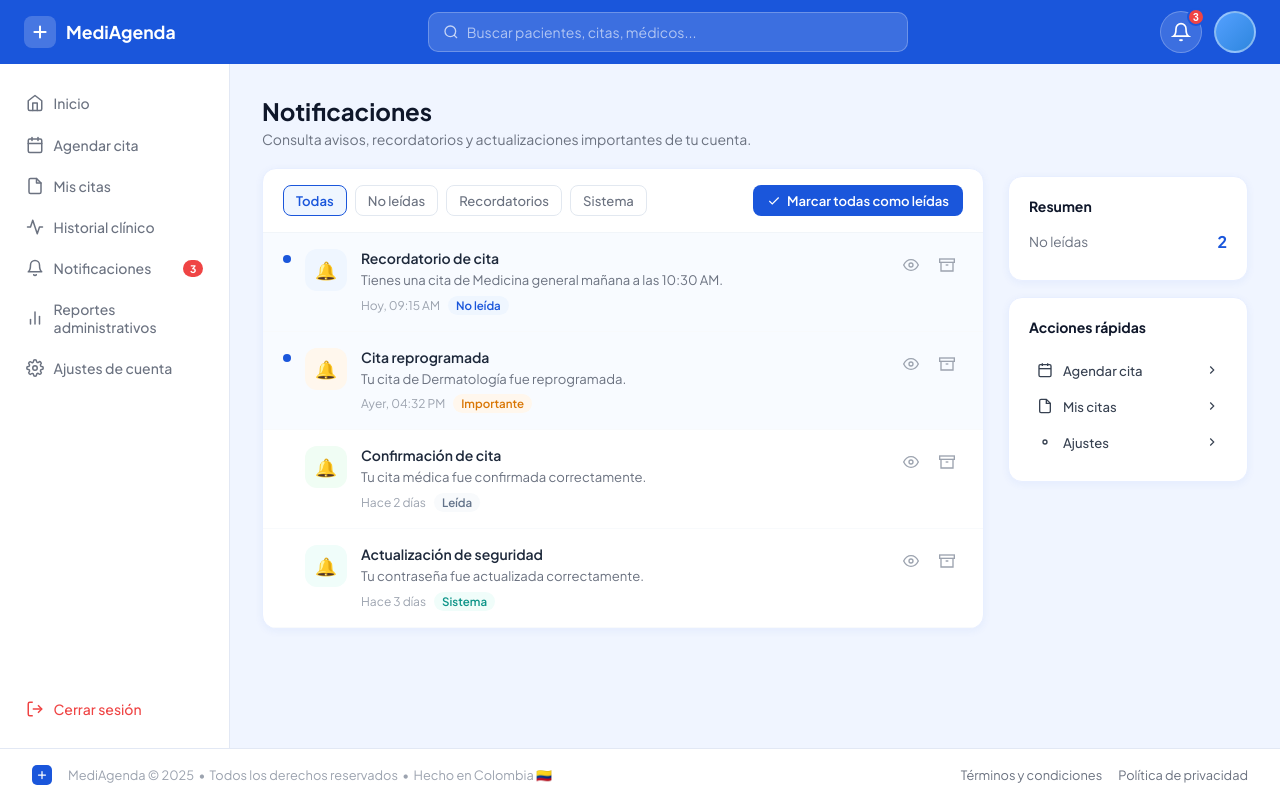
Test: Componente Notificaciones - MediAgenda › Acciones › debe archivar una notificación al hacer clic en archivar
Click the button titled "Archivar" in the row of "Recordatorio de cita".
click(947, 265)  # box 931,249 -> 963,281
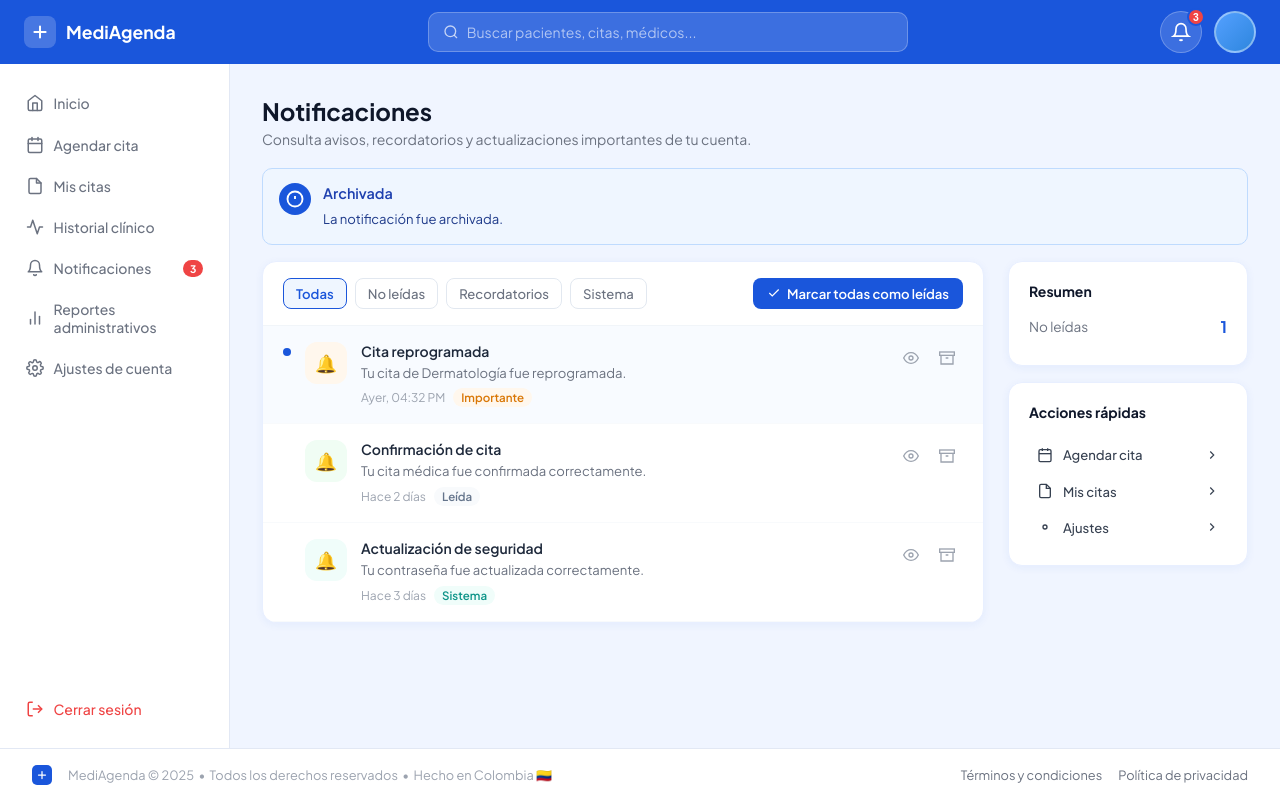
Now the text "Archivada" is shown, box 323,184 -> 393,202
